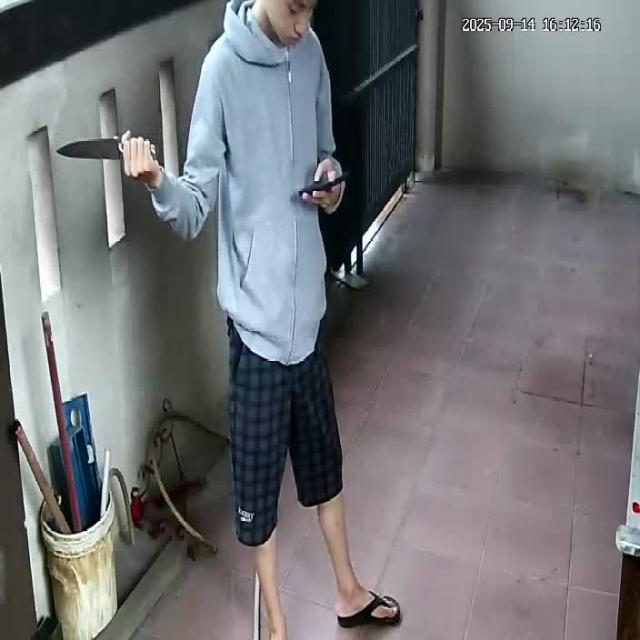senjata_tajam: (55, 136, 127, 160)
